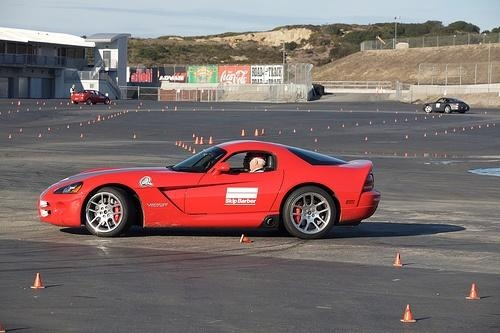car: (37, 139, 381, 241), (422, 97, 472, 116), (72, 91, 112, 105)
